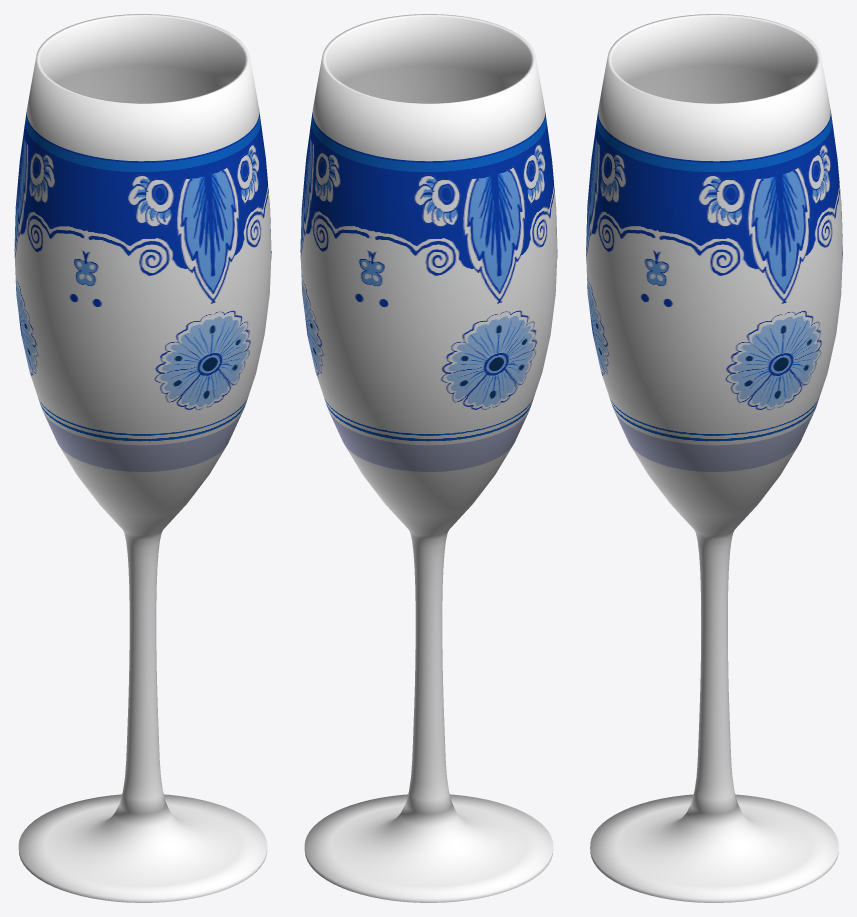
File: ARDelftFlute17.glb
3 renders of one model, left to right at view 1: azimuth 30°, elevation 25°; view 2: azimuth 150°, elevation 25°; view 3: azimuth 270°, elevation 25°, orthographic.
Parts seen in each view (by area): view 1: cup2.002; view 2: cup2.002; view 3: cup2.002.
Part boxes in pixels (x1,y1,x2,y2): cup2.002: (14, 14, 271, 902); cup2.002: (300, 14, 557, 902); cup2.002: (586, 14, 842, 902).
Size of the model in its own units: 2.89 by 9.82 by 2.89.
Materials: 1 (1 with a texture image).
